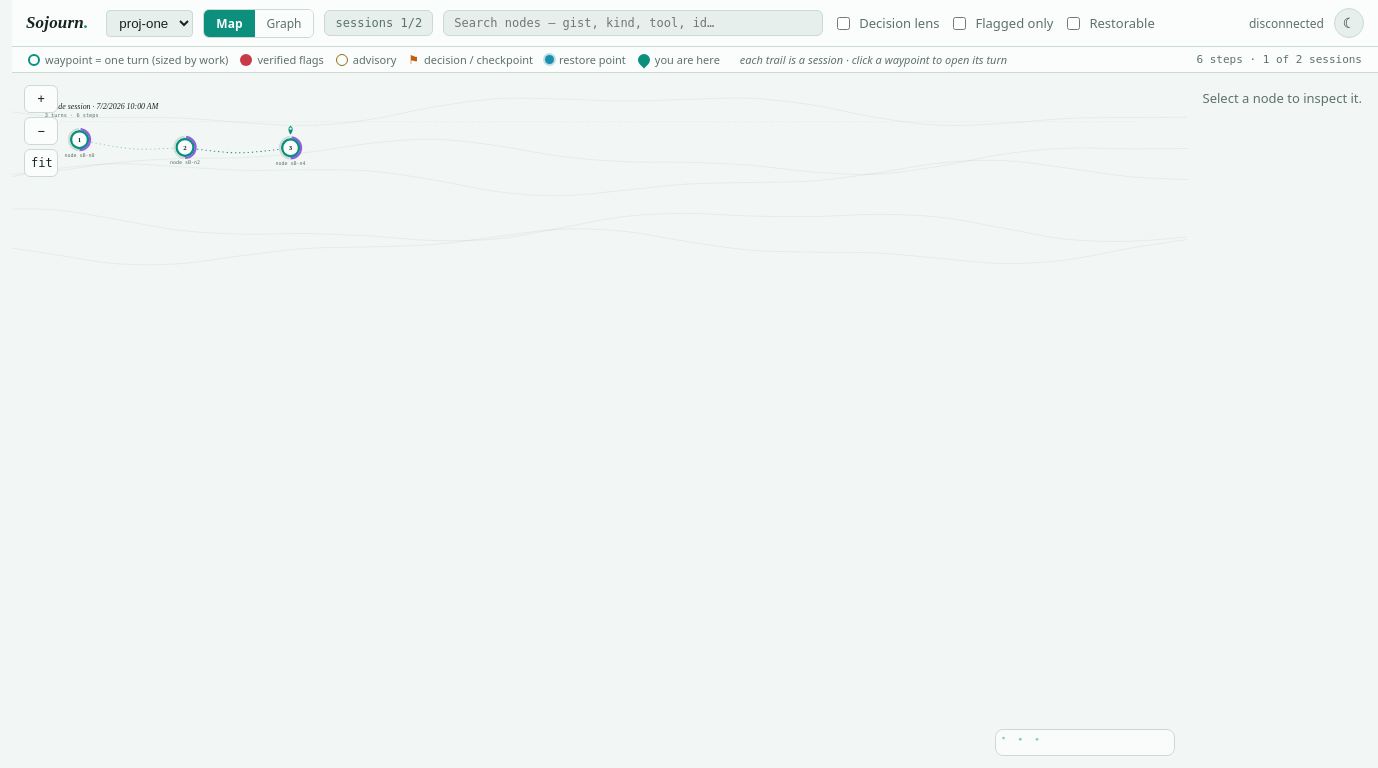
Test case: App / session filter — search scopes to selected sessions › search only matches within the selected sessions
Check: the element with test id "legend" is shown, box [12,47,1377,73]
Step 1. Type "needle-alpha" into the search field labelled "Search nodes" → (633, 23), box [443,10,823,36]
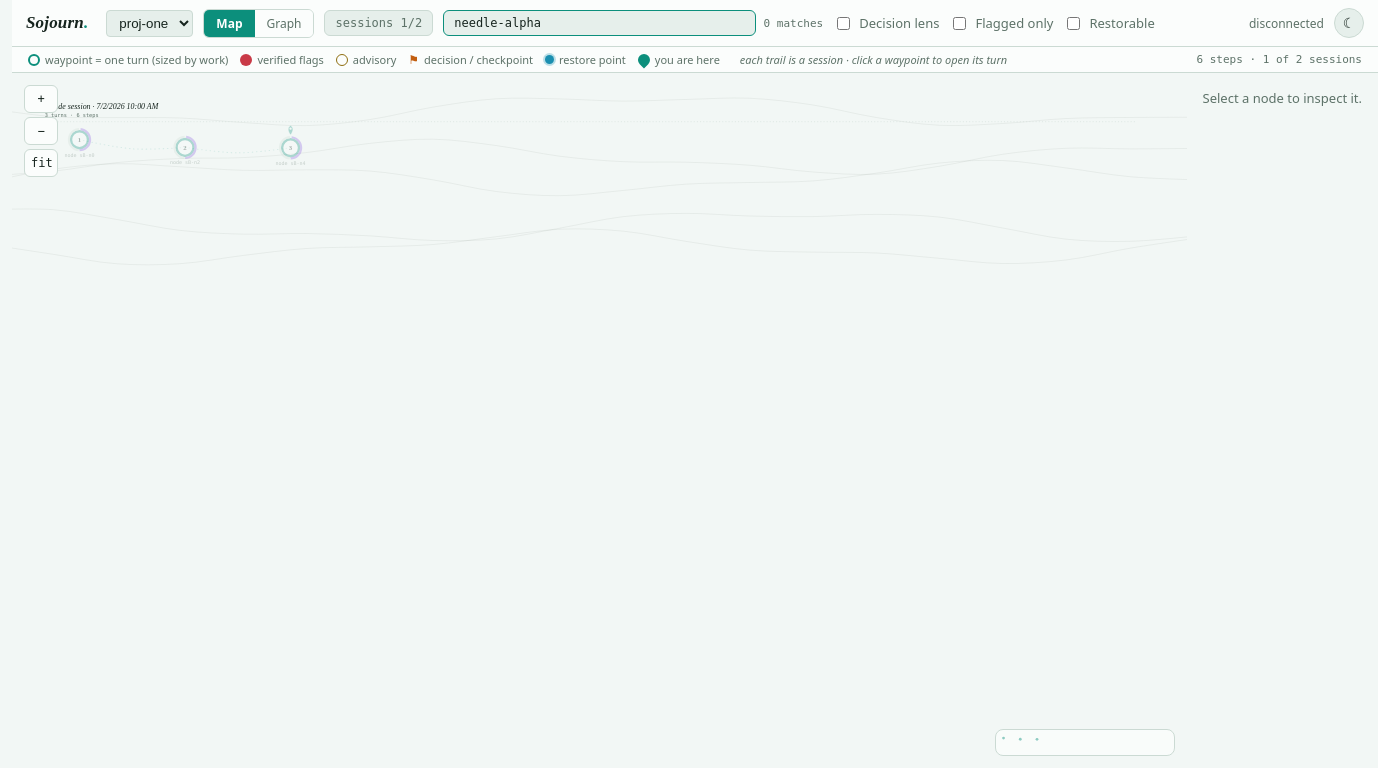
Check: the text with test id "search-count" reads "0 matches", box [764,16,823,30]
Step 2. Click the button with test id "session-filter-button" → (379, 23), box [324,10,433,36]
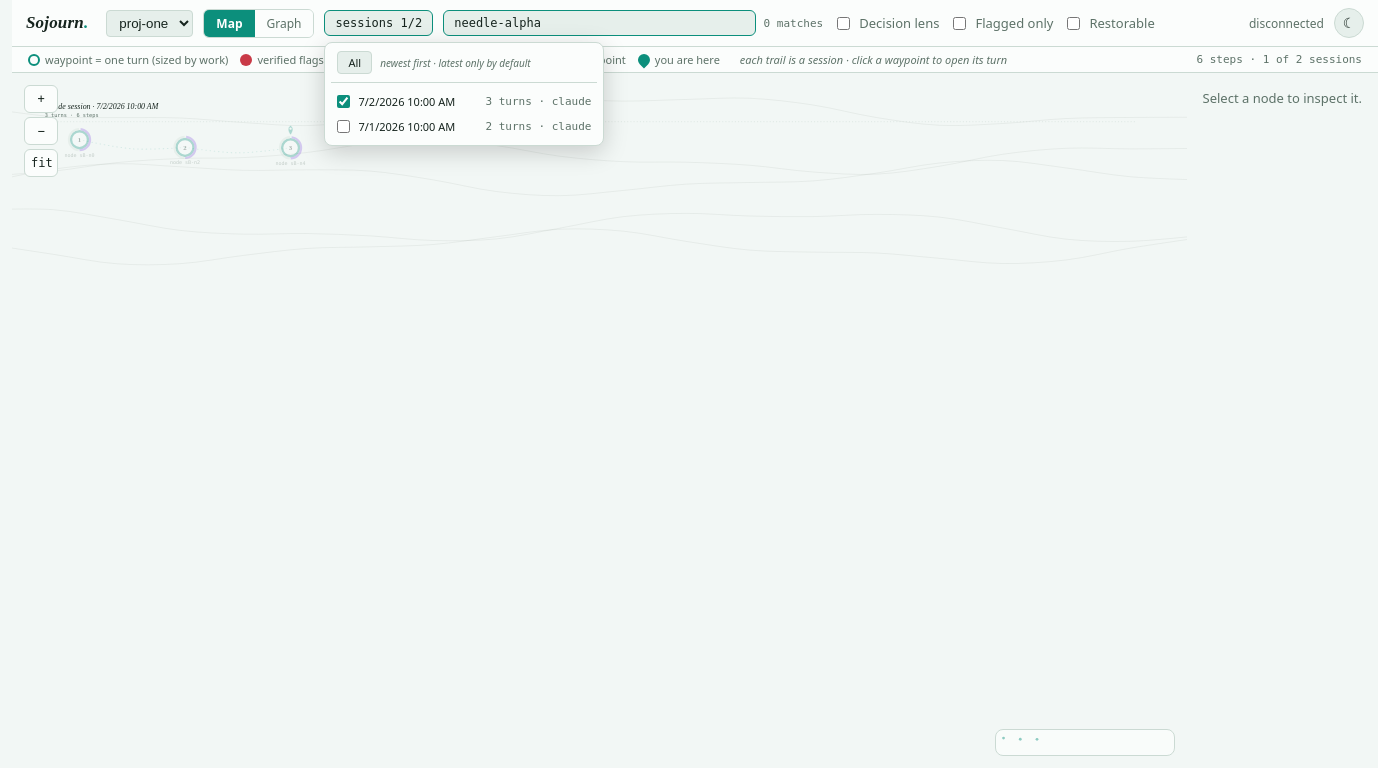
Step 3. Click the checkbox labelled "7/1/2026 10:00 AM 2 turns · claude" → (344, 126), box [338,120,350,133]
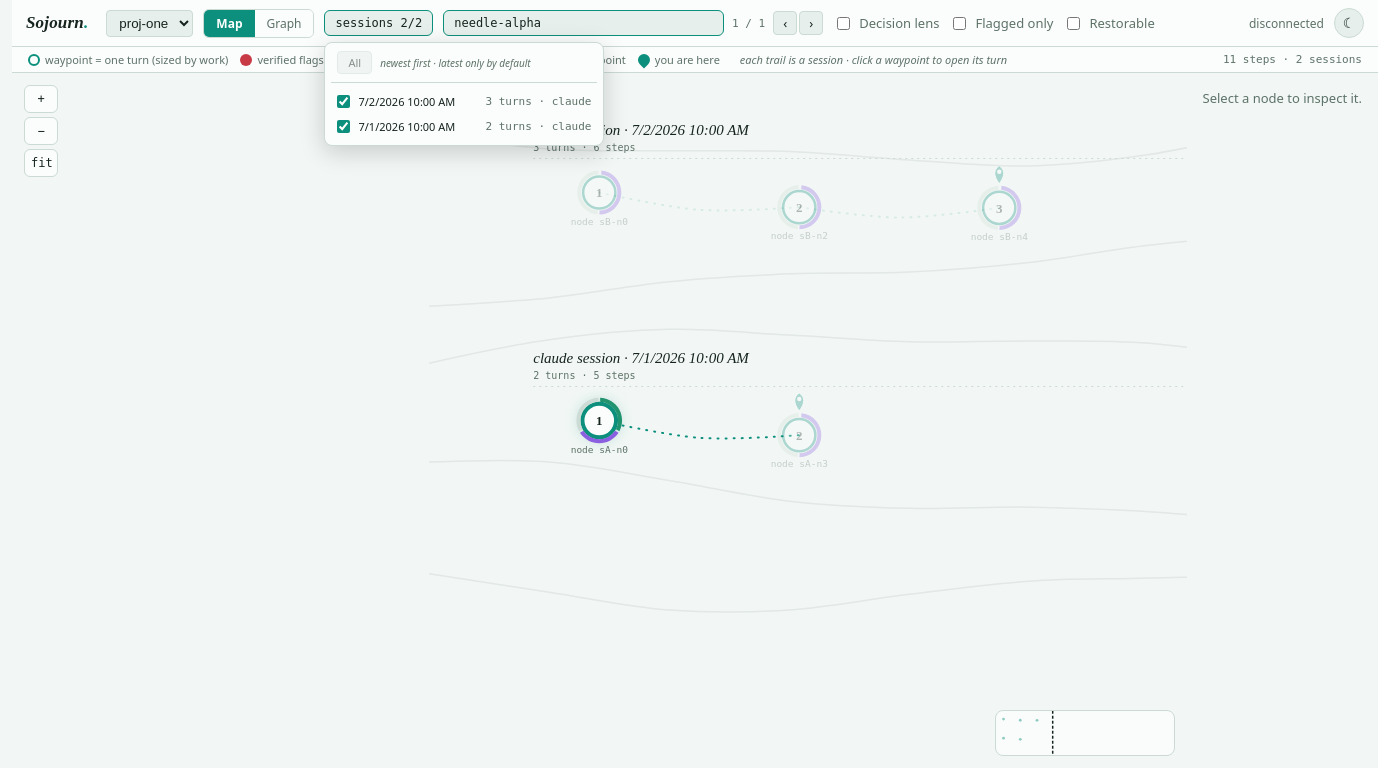
Check: the text with test id "search-count" reads "1 / 1", box [732,16,765,30]
